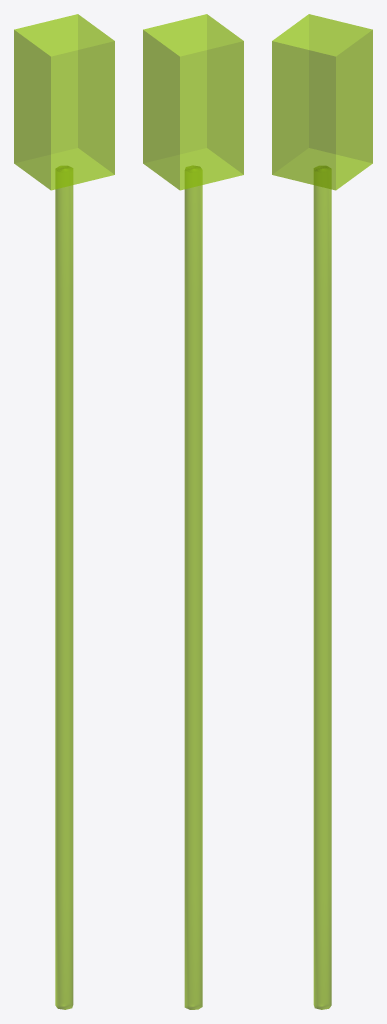
File: gizmoScaleY.fbx
The picture shows the model from 3 angles, left to right: view 1: azimuth 30°, elevation 25°; view 2: azimuth 210°, elevation 25°; view 3: azimuth 330°, elevation 25°; orthographic projection.
Parts seen in each view (by area): view 1: gizmoScaleY; view 2: gizmoScaleY; view 3: gizmoScaleY.
Part boxes in pixels (x1,y1,x2,y2): gizmoScaleY: (14, 14, 114, 1009); gizmoScaleY: (143, 14, 243, 1009); gizmoScaleY: (272, 14, 372, 1009).
Bounding box in the file's own units: 2 × 29 × 2.
